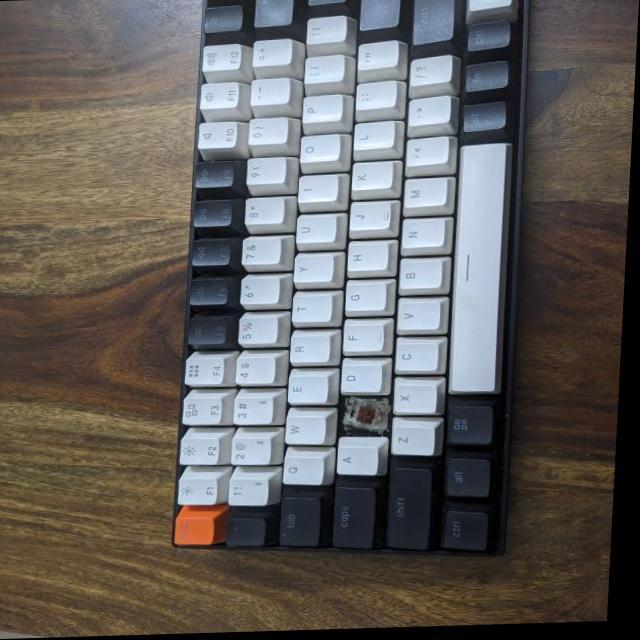key-switch: (345, 399, 395, 438)
